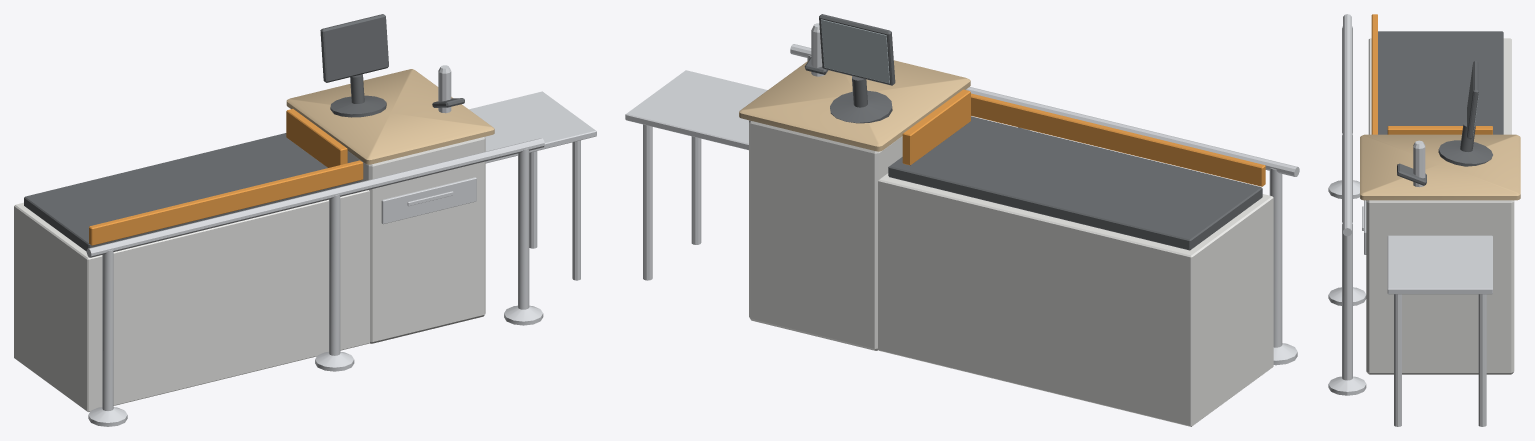
3 views of the same model, side by side, from view 1: azimuth 30°, elevation 25°; view 2: azimuth 150°, elevation 25°; view 3: azimuth 270°, elevation 25° (orthographic). The views are drawn at different scales.
Parts seen in each view (by area): view 1: checkout-lane, till-drawer; view 2: checkout-lane; view 3: checkout-lane, till-drawer.
Boxes of the visible parts, bbox=[...] form: checkout-lane: bbox=[14, 14, 596, 426]; till-drawer: bbox=[381, 177, 476, 224]; checkout-lane: bbox=[625, 14, 1299, 426]; checkout-lane: bbox=[1328, 14, 1520, 426]; till-drawer: bbox=[1362, 200, 1366, 254].
Size of the model in its own units: 2.8 by 1.38 by 0.91.
